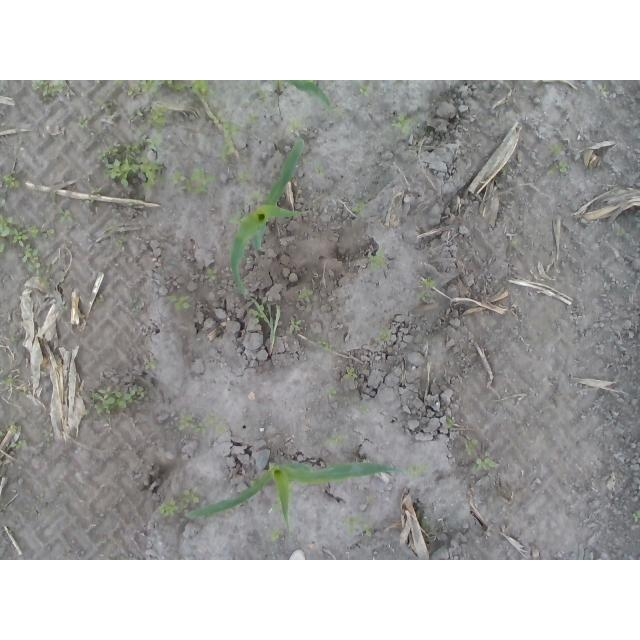Maize: (184, 458, 402, 531), (230, 139, 305, 299), (275, 80, 334, 113)
Weeds: (91, 129, 169, 196), (0, 213, 56, 288), (246, 296, 282, 358), (84, 384, 148, 416), (205, 109, 239, 159), (159, 486, 201, 519), (170, 167, 219, 195), (177, 411, 230, 435), (112, 81, 160, 100), (469, 448, 497, 473), (344, 517, 377, 538), (147, 99, 169, 129), (189, 80, 216, 104), (29, 80, 65, 97), (390, 112, 413, 138), (366, 247, 387, 274), (416, 279, 438, 303), (166, 294, 194, 311), (404, 464, 433, 480), (307, 158, 330, 178), (543, 160, 569, 177), (325, 431, 348, 450), (126, 103, 146, 124), (231, 170, 255, 187), (158, 80, 186, 94), (2, 173, 22, 192), (286, 117, 307, 135), (57, 206, 75, 226), (342, 367, 361, 385), (94, 98, 113, 116), (318, 339, 338, 354), (350, 203, 367, 220), (374, 326, 392, 342), (462, 438, 478, 456), (296, 287, 312, 305), (4, 419, 24, 433), (288, 318, 303, 335), (322, 387, 338, 402), (143, 355, 158, 370), (547, 142, 561, 158), (206, 268, 219, 284), (8, 439, 28, 449), (250, 189, 263, 204), (270, 531, 283, 545), (78, 114, 90, 129), (247, 114, 258, 130), (224, 214, 241, 224), (597, 83, 609, 97), (44, 431, 53, 448), (445, 418, 457, 430), (0, 375, 16, 384), (359, 403, 370, 415), (359, 84, 370, 96), (632, 510, 640, 523), (511, 239, 521, 249), (8, 335, 17, 345), (420, 519, 430, 528), (113, 239, 123, 248), (0, 430, 6, 438)
